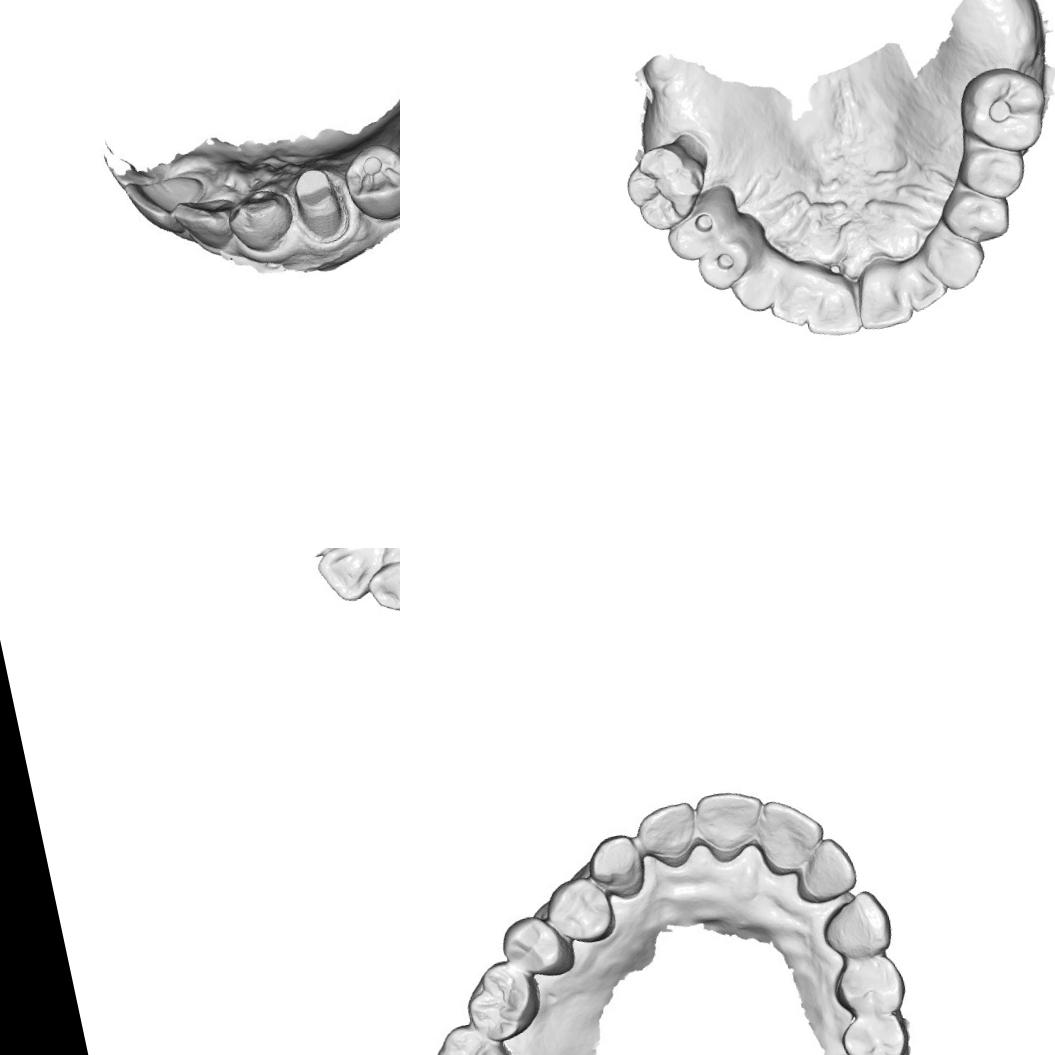canine: (812, 884, 898, 966), (220, 182, 298, 260), (582, 828, 651, 906), (921, 228, 992, 296), (727, 260, 790, 321)
crown: (282, 158, 358, 252)
incisor: (120, 161, 212, 243), (750, 789, 832, 878), (694, 783, 772, 865), (784, 830, 865, 908), (632, 798, 707, 876), (168, 189, 245, 263), (311, 548, 399, 607), (848, 261, 916, 334), (802, 282, 868, 344), (896, 255, 950, 314), (765, 276, 817, 334), (361, 554, 400, 616)
molar: (951, 58, 1055, 163), (617, 136, 716, 238), (456, 952, 550, 1050), (419, 1011, 528, 1055)
premolar: (496, 905, 581, 987), (540, 870, 620, 951), (826, 950, 912, 1024), (333, 136, 400, 230), (953, 138, 1033, 208), (938, 177, 1014, 249), (659, 197, 733, 266), (692, 232, 762, 294), (834, 1004, 913, 1055)
